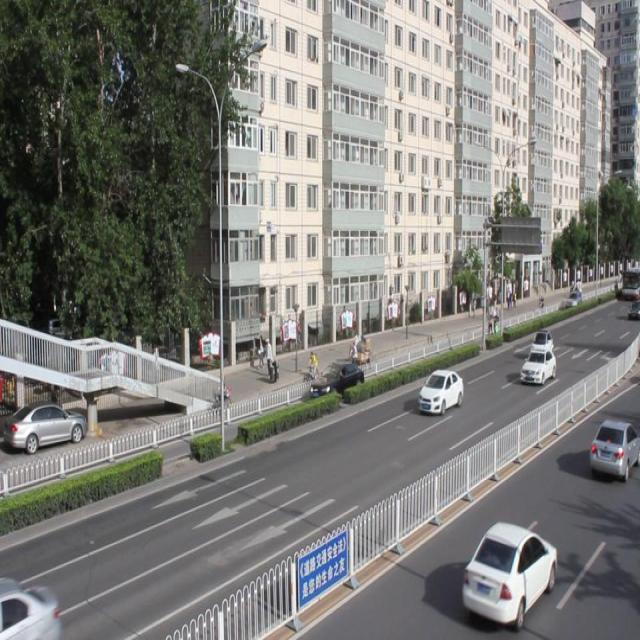car: (461, 518, 556, 625), (1, 575, 58, 640), (587, 417, 640, 480), (417, 366, 463, 415), (309, 361, 364, 398), (518, 346, 556, 384)
